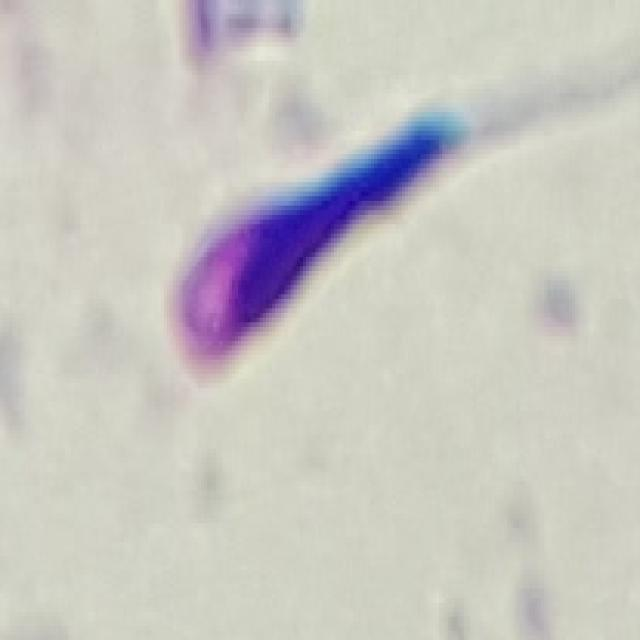abnormal sperm: (159, 65, 616, 400)
